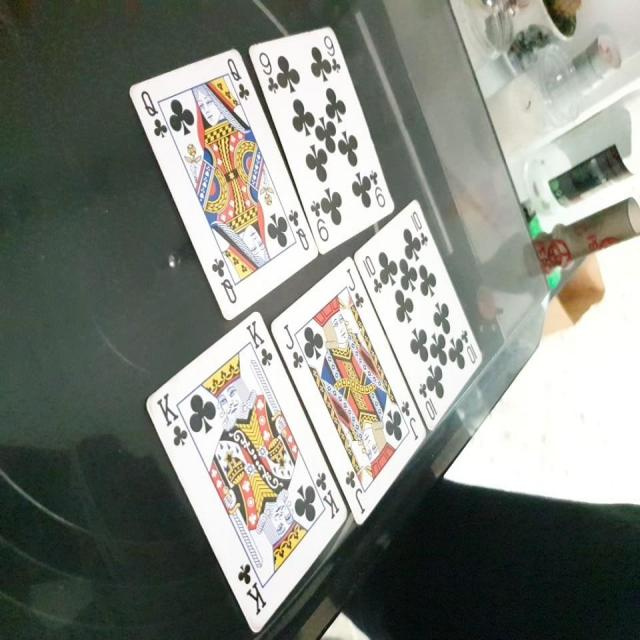10 Trefoils: (351, 197, 482, 432)
9 Trefoils: (248, 24, 396, 255)
J Trefoils: (269, 256, 428, 528)
K Trefoils: (146, 310, 348, 636)
Q Trefoils: (128, 47, 317, 326)
